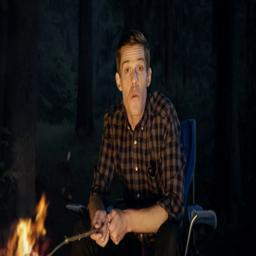fire: (5, 195, 47, 256)
